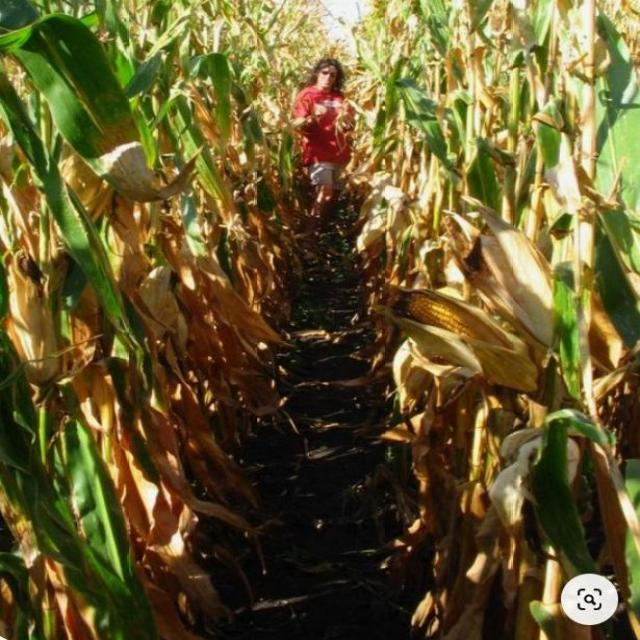row: (124, 186, 467, 640)
